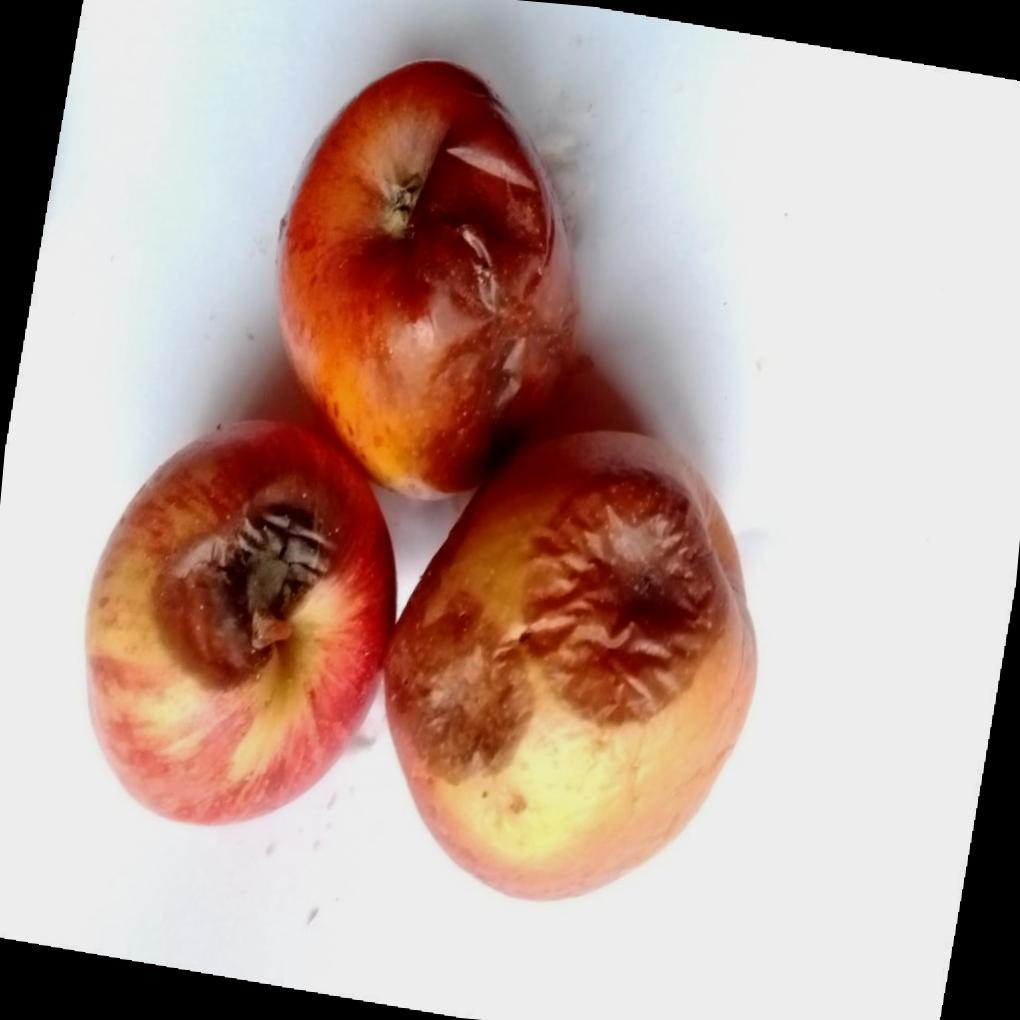FreshOrange: (82, 56, 756, 899)
